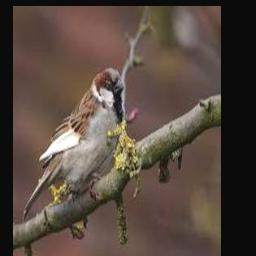Sparrow: (22, 67, 124, 222)
